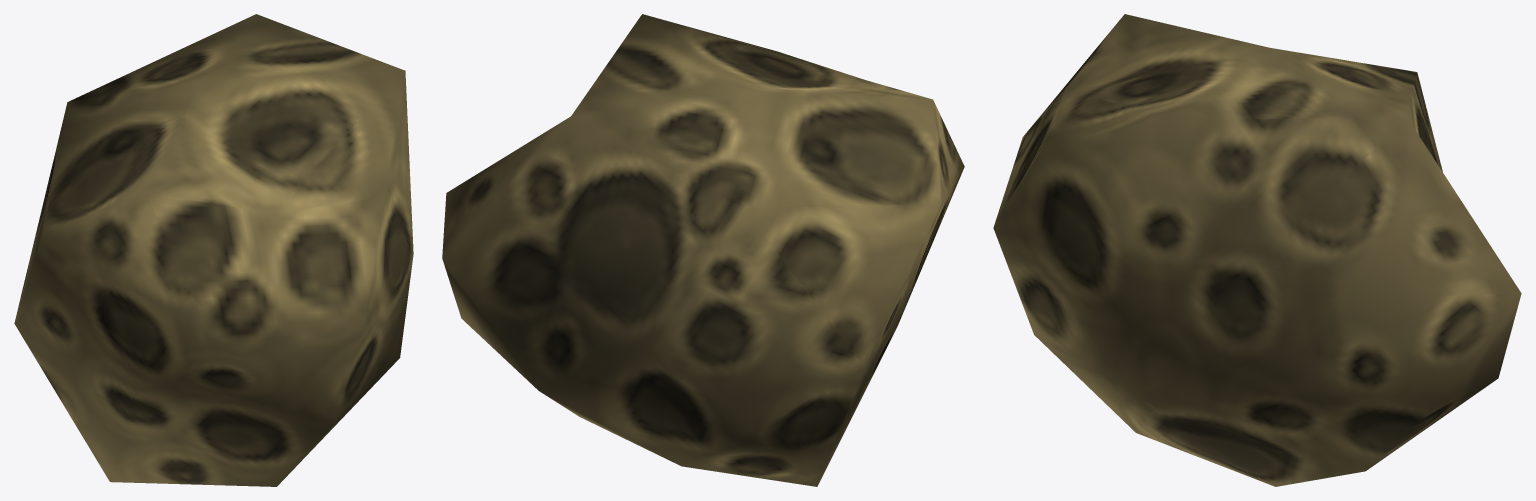
File: Asteroid_04.FBX
3 renders of one model, left to right at view 1: azimuth 30°, elevation 25°; view 2: azimuth 150°, elevation 25°; view 3: azimuth 270°, elevation 25°, orthographic. The views are drawn at different scales.
Parts seen in each view (by area): view 1: Asteroid_04; view 2: Asteroid_04; view 3: Asteroid_04.
Part boxes in pixels (box(x1,y1,x2,y2)): Asteroid_04: box(14, 14, 413, 486); Asteroid_04: box(442, 14, 964, 486); Asteroid_04: box(993, 14, 1521, 486).
Size of the model in its own units: 86.27 by 88 by 78.91.
